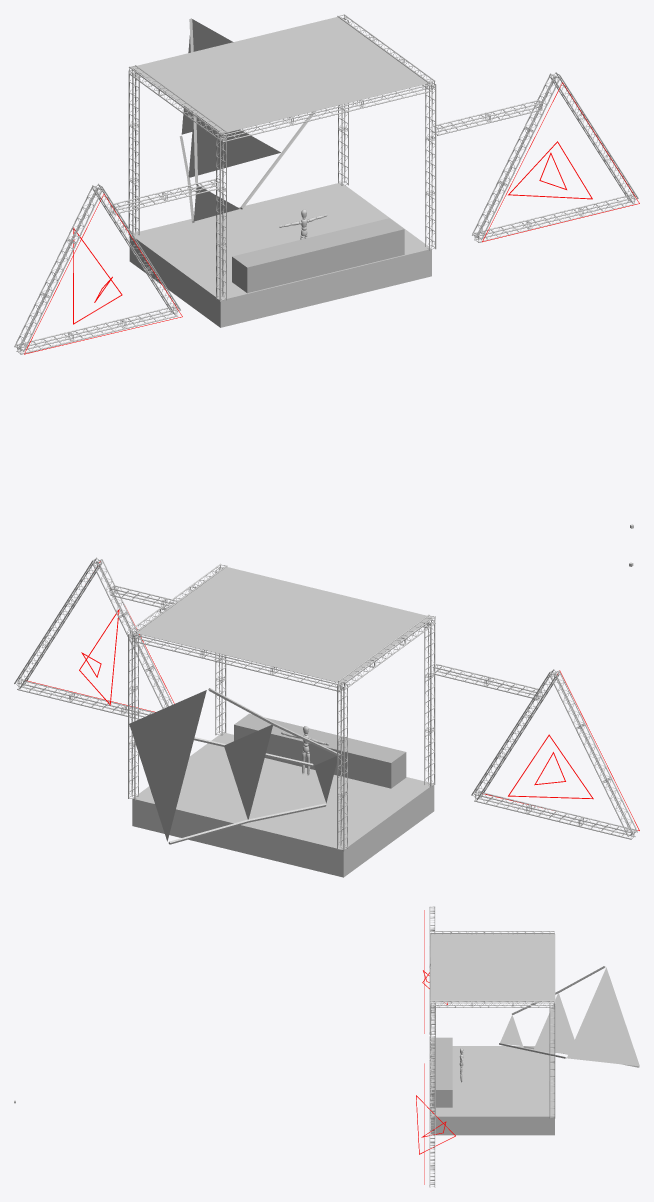
File: STAAAGGe_FinalV2.fbx
3 renders of one model, top to bottom at view 1: azimuth 30°, elevation 25°; view 2: azimuth 150°, elevation 25°; view 3: azimuth 270°, elevation 25°, orthographic. The views are drawn at different scales.
Visible parts, largest first — view 1: StageFloor, StageRoof, DJbooth, Polygon_1, truss_10_a_1_4, truss_10_a_1_5, truss_10_a_2_2, truss_10_a_2_4, truss_10_a, truss_10_a_1, truss_10_a_2_5, truss_10_a_2 (+8 smaller); view 2: StageFloor, StageRoof, Polygon, DJbooth, Polygon_1, truss_10_a_1_4, Sweep, truss_10_a_2_4, truss_10_a_1_2, truss_10_a_2, truss_10_a_2_2, truss_10_a_1_5 (+10 smaller); view 3: StageFloor, StageRoof, Polygon, DJbooth, Polygon_1, truss_10_a_1_3, truss_10_a_5, truss_10_a_2_3, Sweep.
Part boxes in pixels (x1,y1,x2,y2): StageFloor: (129, 182, 431, 327); StageRoof: (131, 16, 429, 133); DJbooth: (232, 218, 404, 293); Polygon_1: (188, 115, 280, 177); truss_10_a_1_4: (14, 185, 102, 351); truss_10_a_1_5: (472, 73, 560, 240); truss_10_a_2_2: (128, 70, 139, 237); truss_10_a_2_4: (16, 306, 177, 354); truss_10_a: (425, 82, 436, 250); truss_10_a_1: (219, 81, 432, 142); truss_10_a_2_5: (474, 194, 635, 242); truss_10_a_2: (216, 133, 226, 301); StageFloor: (132, 732, 434, 877); StageRoof: (134, 566, 432, 683); Polygon: (129, 690, 206, 841); DJbooth: (234, 713, 406, 788); Polygon_1: (224, 725, 272, 819); truss_10_a_1_4: (549, 670, 637, 836); Sweep: (169, 688, 339, 844); truss_10_a_2_4: (474, 791, 635, 839); truss_10_a_1_2: (131, 631, 344, 692); truss_10_a_2: (424, 620, 435, 787); truss_10_a_2_2: (337, 683, 347, 851); truss_10_a_1_5: (92, 559, 172, 708); StageFloor: (430, 1046, 554, 1135); StageRoof: (430, 933, 554, 1002); Polygon: (567, 967, 639, 1066); DJbooth: (431, 1037, 452, 1107); Polygon_1: (533, 993, 574, 1054); truss_10_a_1_3: (430, 1000, 554, 1007); truss_10_a_5: (429, 1061, 435, 1184); truss_10_a_2_3: (549, 1004, 555, 1118); Sweep: (499, 966, 638, 1067).
Bounding box in the file's own units: 2367 × 724 × 3025.
